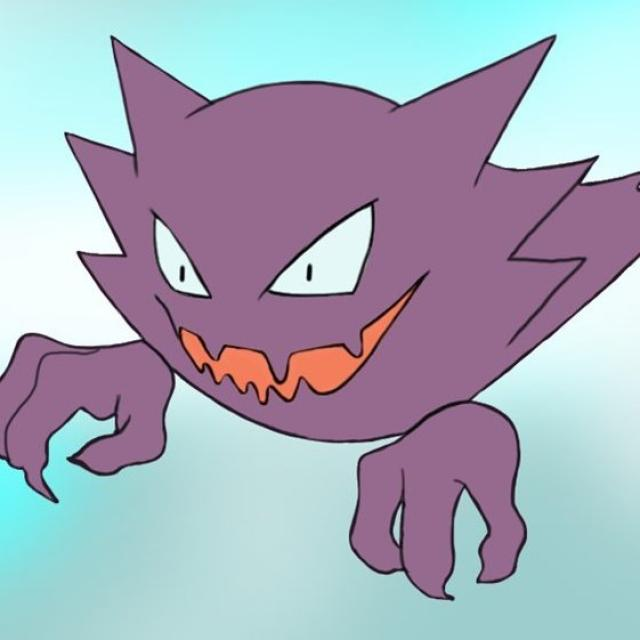Haunter: (5, 34, 604, 500)
